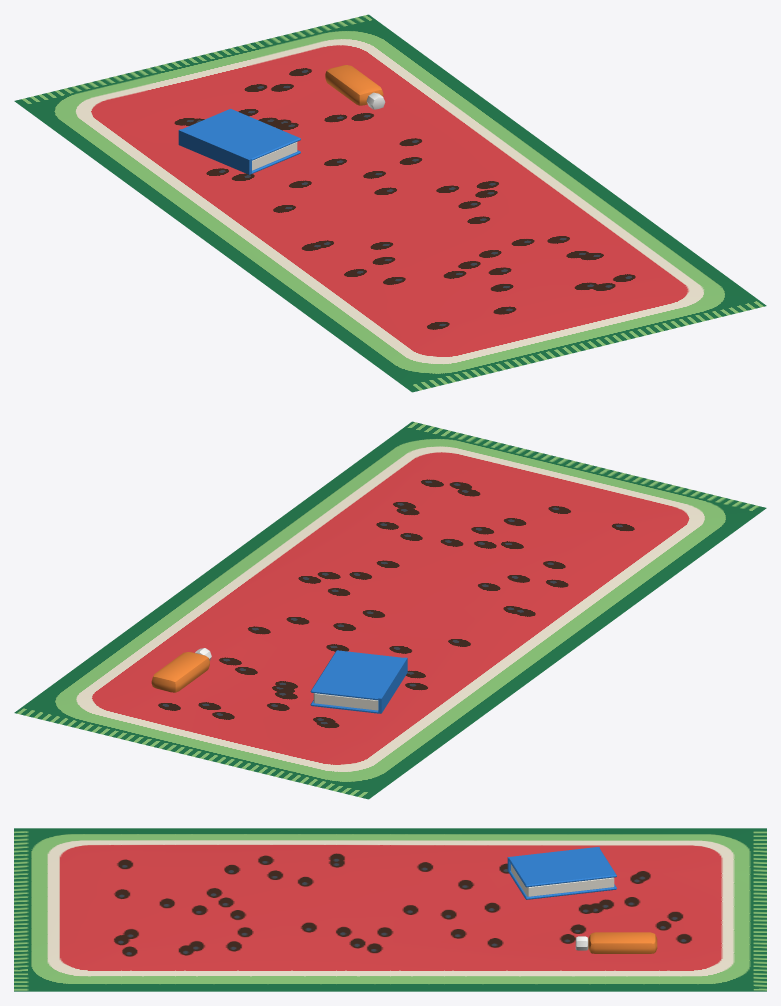
Rendered from toalha_praia_melancia.glb.
3 renders of one model, top to bottom at view 1: azimuth 30°, elevation 25°; view 2: azimuth 150°, elevation 25°; view 3: azimuth 270°, elevation 25°, orthographic. The views are drawn at different scales.
Parts seen in each view (by area): view 1: toalha_praia_melancia; view 2: toalha_praia_melancia; view 3: toalha_praia_melancia.
Boxes of the visible parts, left/top/right/bottom form: toalha_praia_melancia: left=14, top=14, right=766, bottom=392; toalha_praia_melancia: left=14, top=421, right=766, bottom=799; toalha_praia_melancia: left=14, top=828, right=766, bottom=991.
Size of the model in its own units: 0.9 by 0.046 by 1.75.
Materials: 2 (2 with a texture image).
